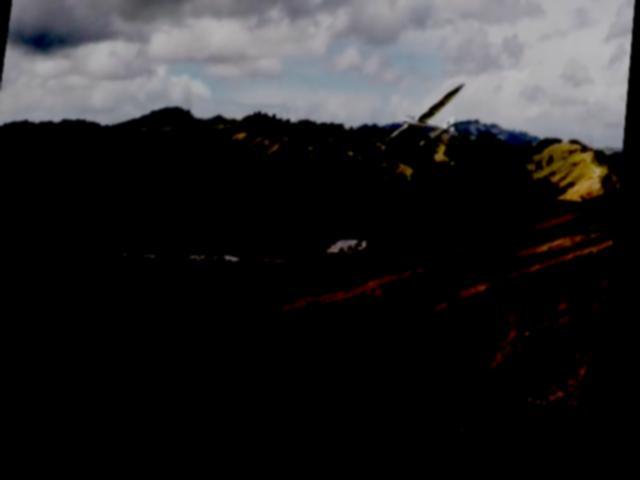iha: (385, 90, 467, 161)
